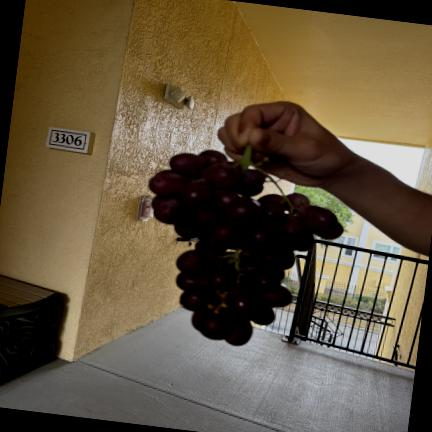grape_cluster: (149, 146, 343, 345)
